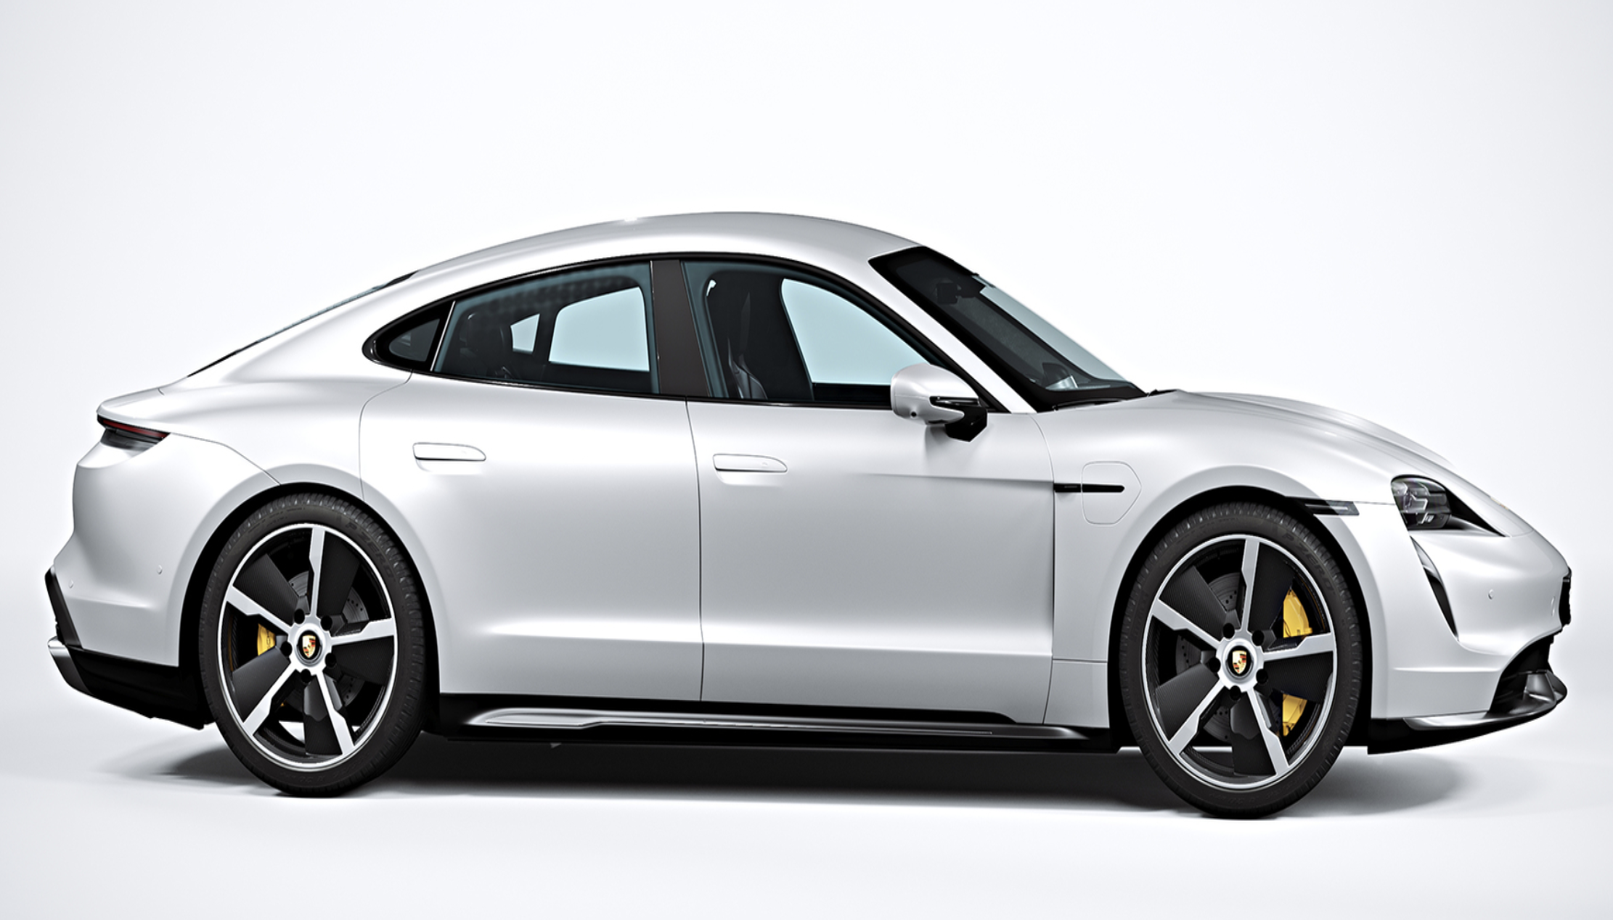hatch: (1075, 454, 1149, 530)
